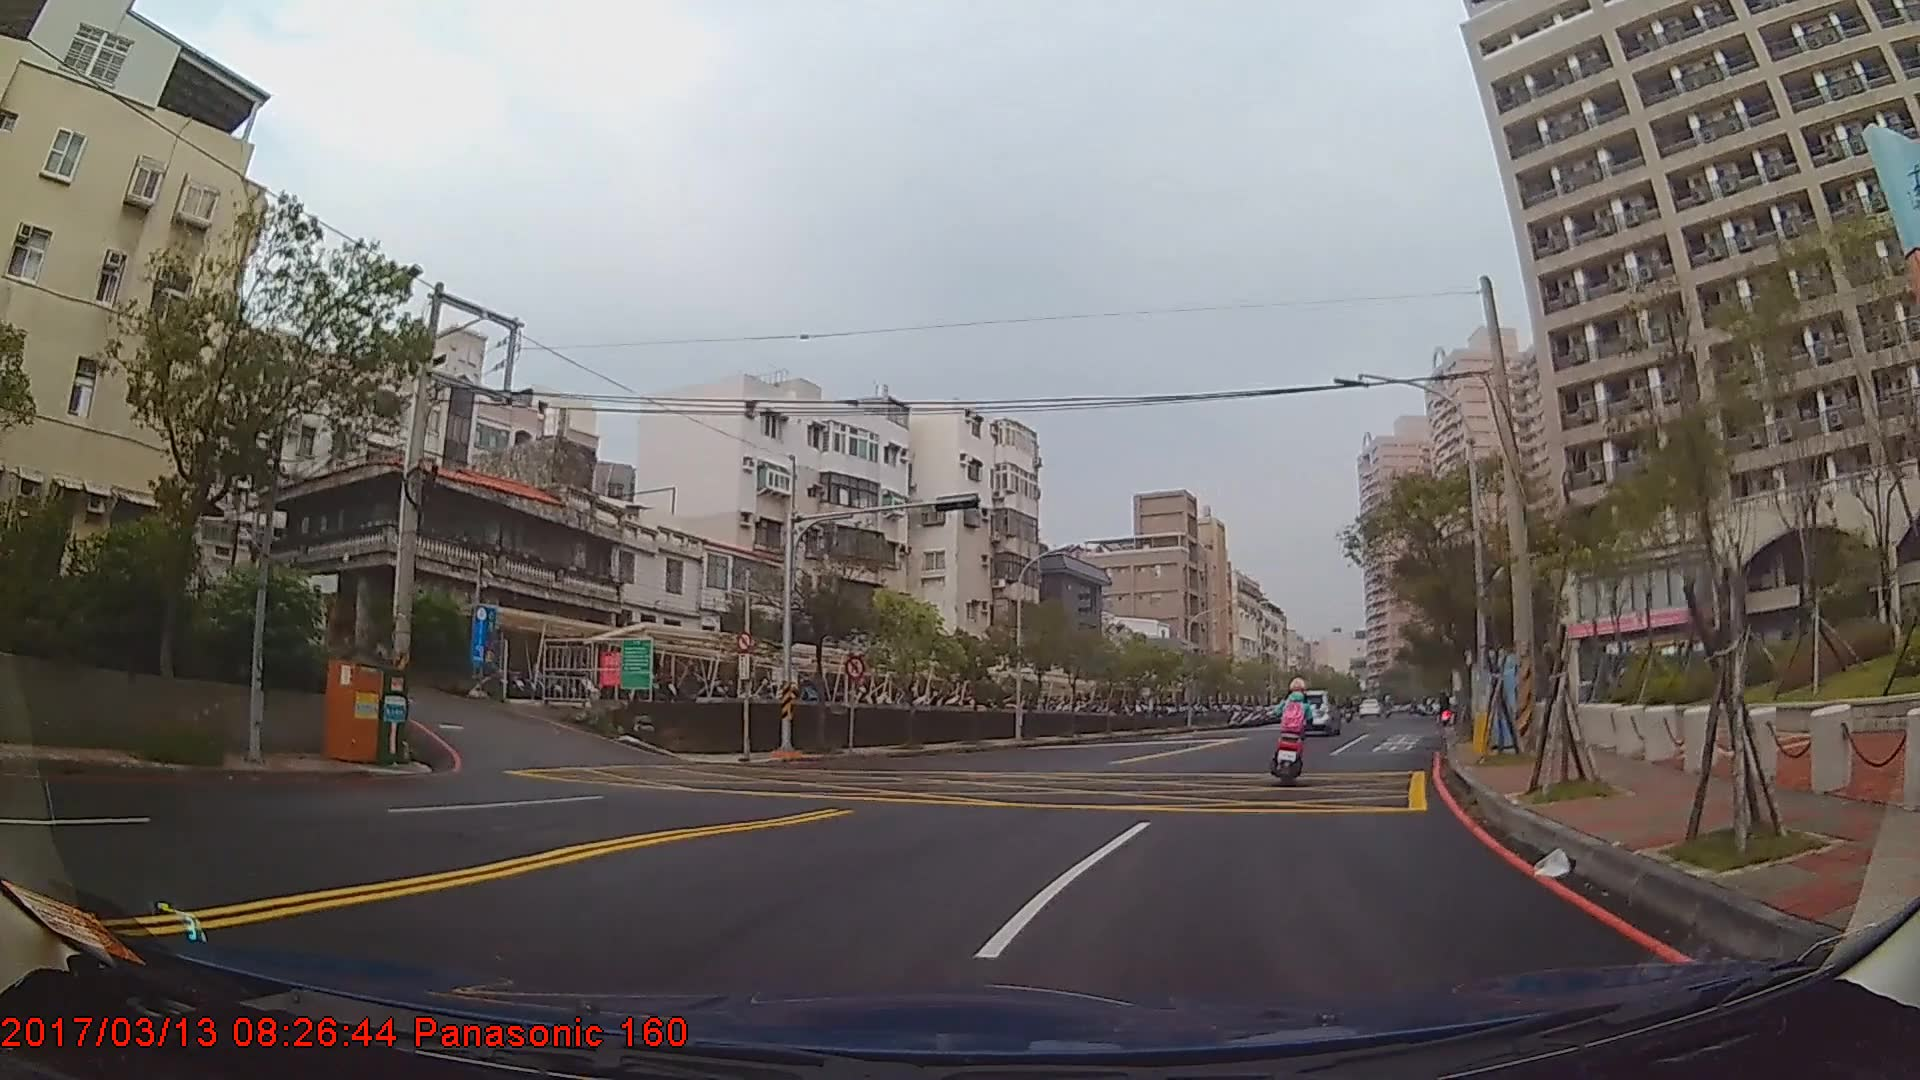rider: (1271, 679, 1318, 783)
vehicle: (1281, 686, 1343, 735)
